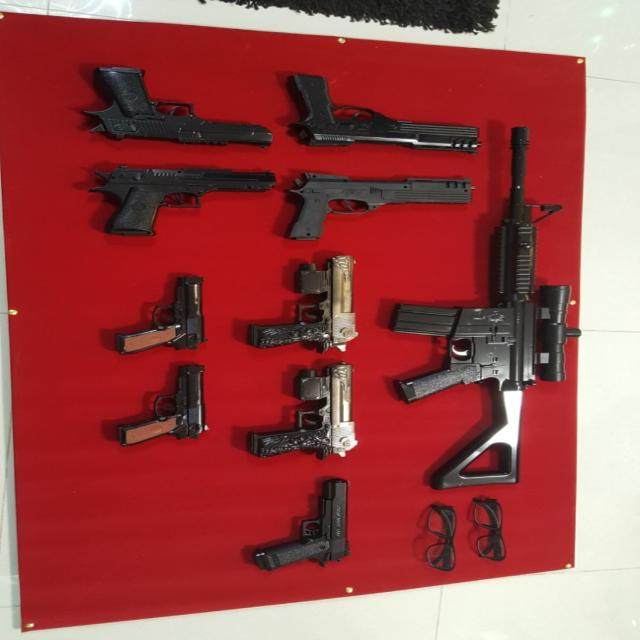HandGun: (81, 67, 274, 149), (285, 75, 480, 153), (88, 167, 282, 239), (286, 175, 473, 242), (247, 256, 356, 354), (249, 365, 358, 461), (245, 479, 351, 572), (117, 365, 207, 447), (116, 276, 205, 356)
Rifle: (390, 127, 582, 491)
